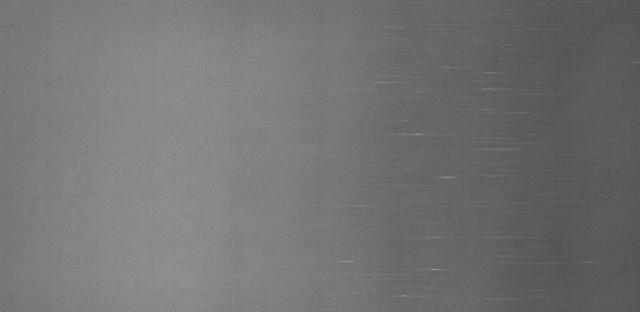waist_folding: (336, 23, 589, 278)
